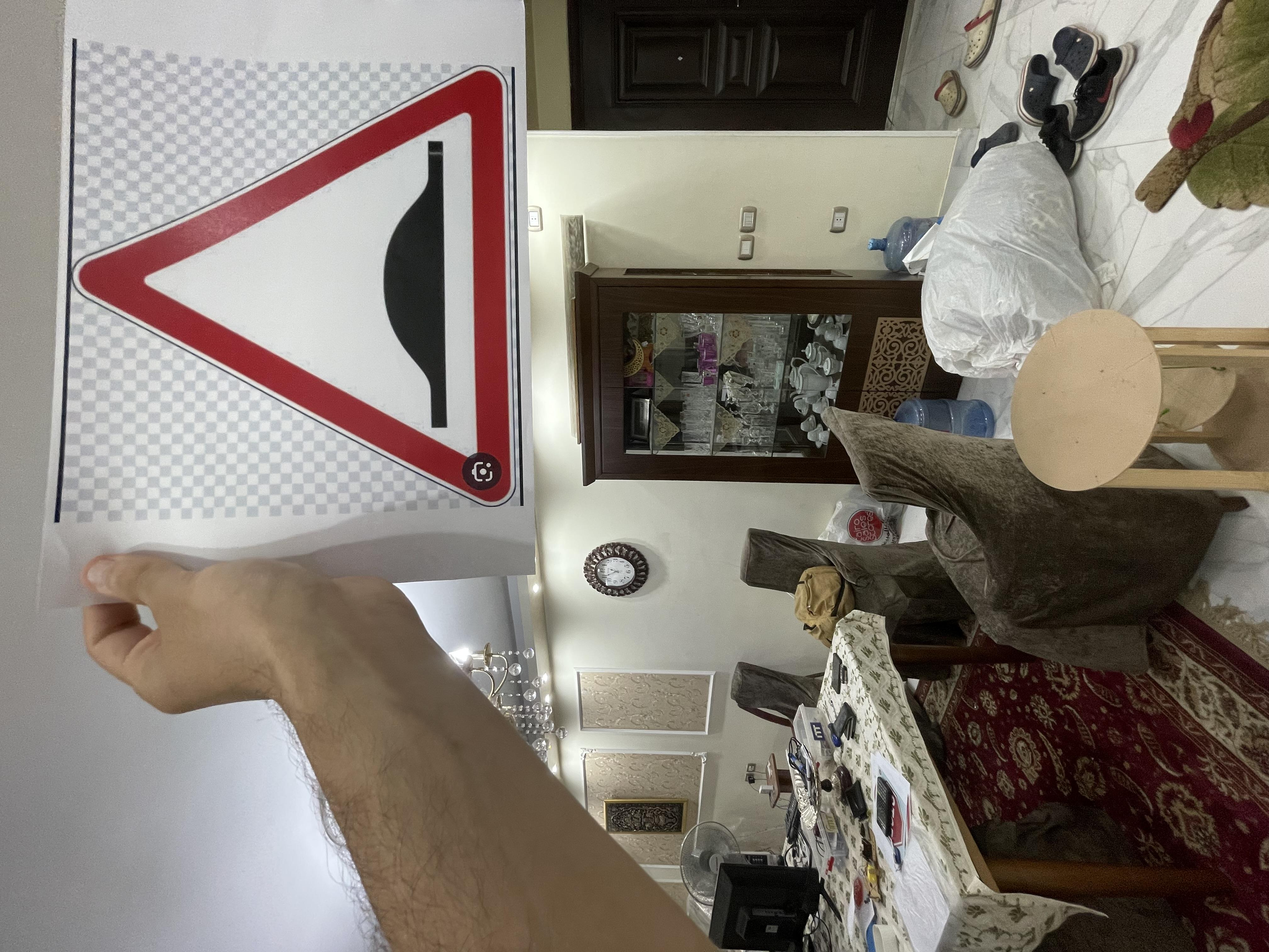Hump: (583, 50, 1201, 388)
